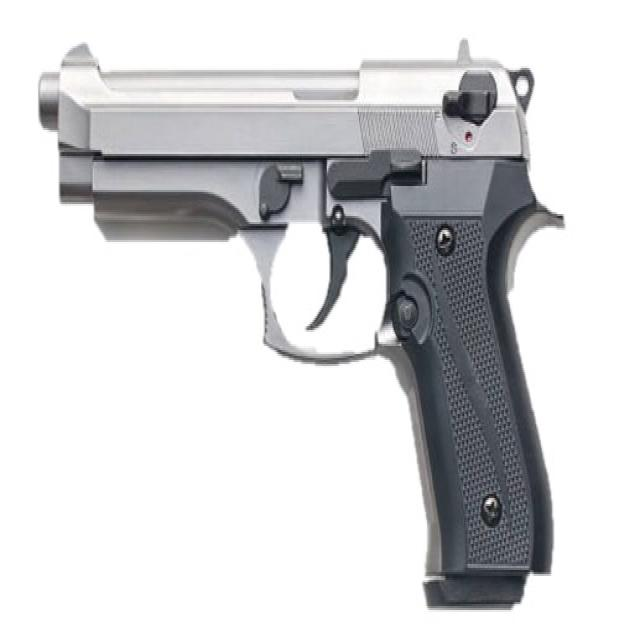pistol: (34, 33, 570, 621)
